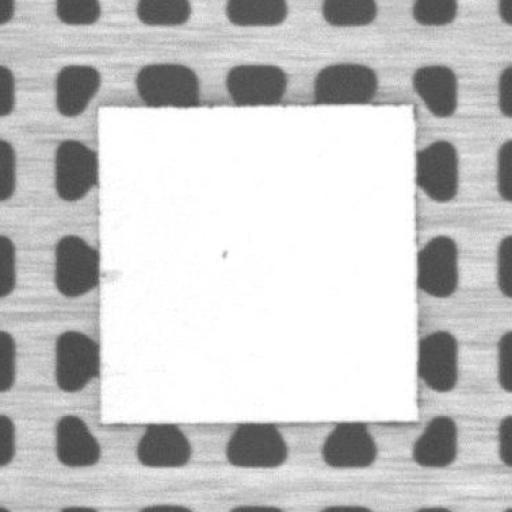DIE_INK: (103, 268, 125, 282), (218, 246, 233, 265)
